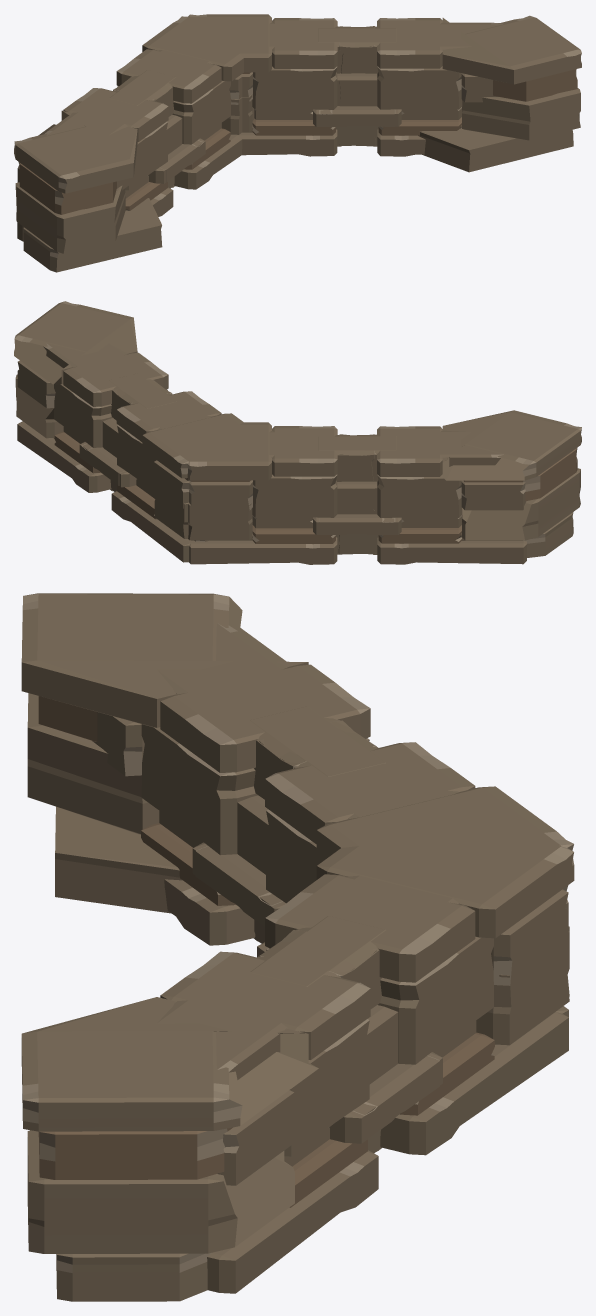
File: two.glb
3 renders of one model, top to bottom at view 1: azimuth 30°, elevation 25°; view 2: azimuth 150°, elevation 25°; view 3: azimuth 270°, elevation 25°, orthographic. The views are drawn at different scales.
Parts seen in each view (by area): view 1: Wall_Modular.007; view 2: Wall_Modular.007; view 3: Wall_Modular.007.
Boxes of the visible parts, left/top/right/bottom form: Wall_Modular.007: left=14, top=14, right=581, bottom=272; Wall_Modular.007: left=14, top=301, right=581, bottom=564; Wall_Modular.007: left=21, top=593, right=574, bottom=1301.
Bounding box in the file's own units: 1.95 × 0.361 × 0.8913.
